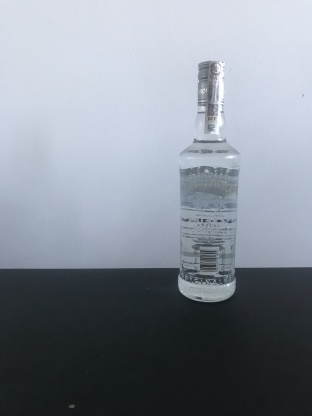nakretka: (195, 57, 227, 107)
